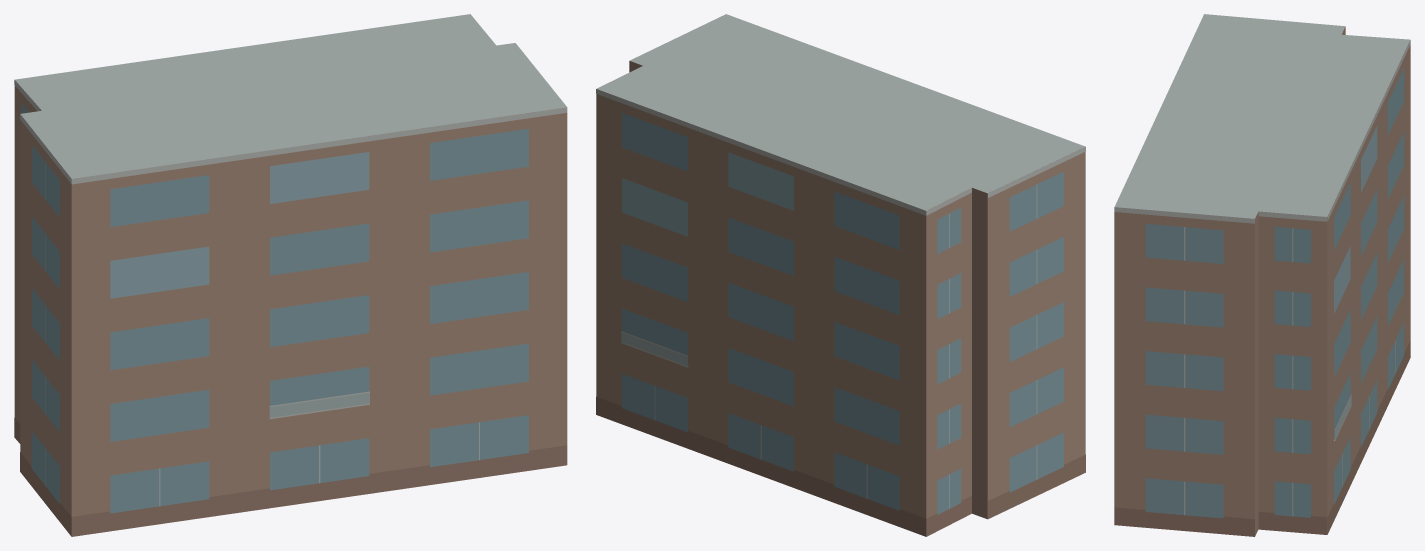
Rendered from survey-upis-32967981.glb.
3 renders of one model, left to right at view 1: azimuth 30°, elevation 25°; view 2: azimuth 150°, elevation 25°; view 3: azimuth 270°, elevation 25°, orthographic. The views are drawn at different scales.
Visible parts, largest first — view 1: survey-upis-32967981.tmp; view 2: survey-upis-32967981.tmp; view 3: survey-upis-32967981.tmp.
Boxes of the visible parts, x1,y1,x2,y2 form: survey-upis-32967981.tmp: (14, 14, 567, 536); survey-upis-32967981.tmp: (596, 14, 1085, 536); survey-upis-32967981.tmp: (1114, 14, 1410, 536).
Size of the model in its own units: 22.25 by 16.1 by 13.59.
